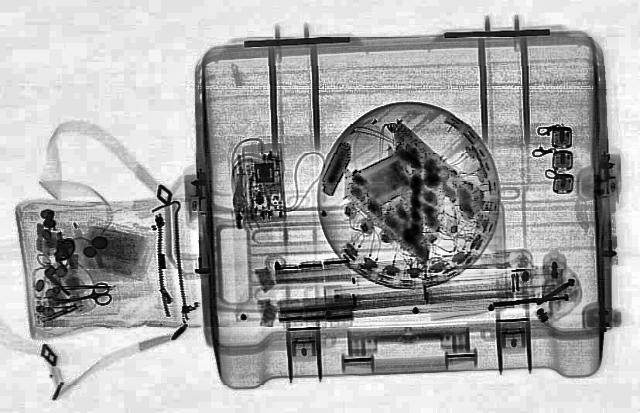Scissors: (46, 281, 116, 313)
